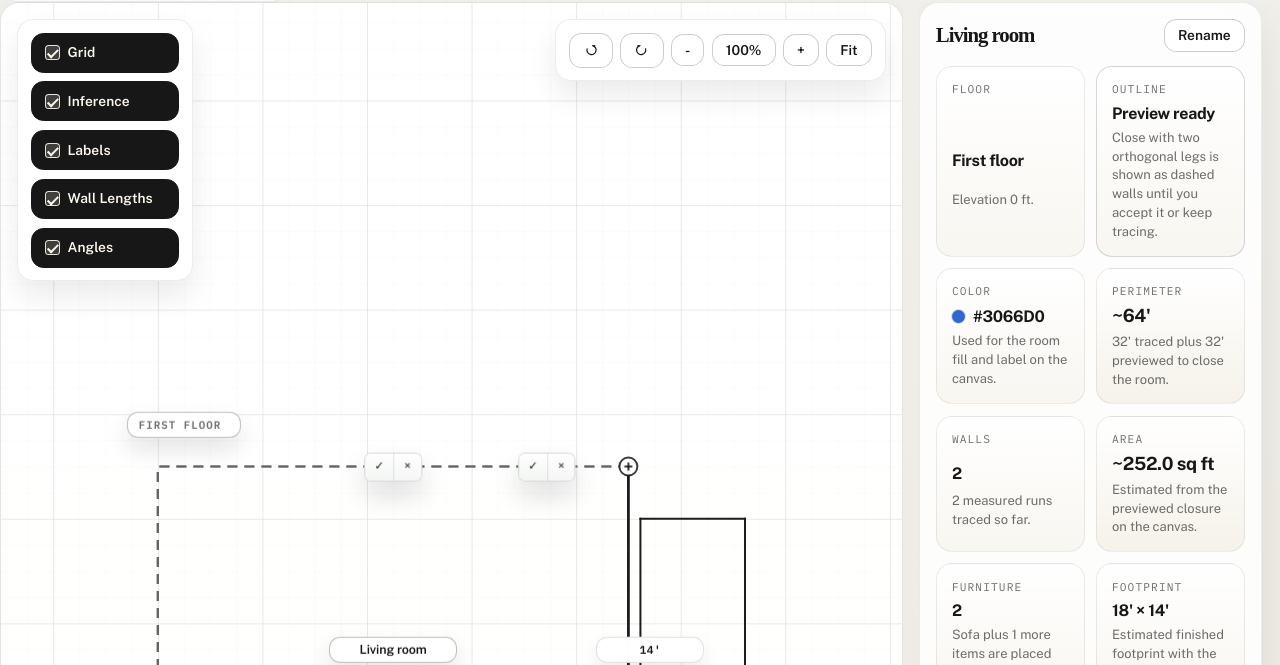
Scenario: workspace interactions › keeps dismissed inferred wall previews hidden after draft recomputes and route changes
The image size is (1280, 665).
Click the button with test id "canvas-suggestion-dismiss-" at (407, 467), box [393, 453, 421, 480]
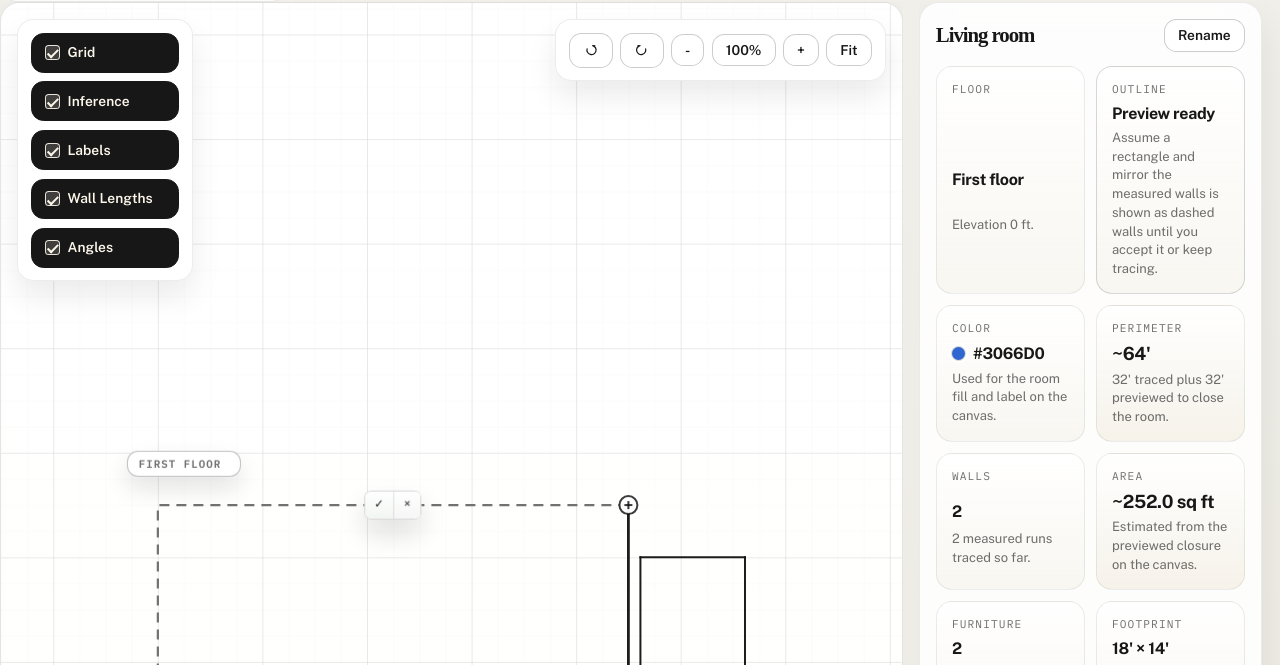
Click the checkbox labelled "Inference" at (53, 101), box [45, 94, 60, 109]
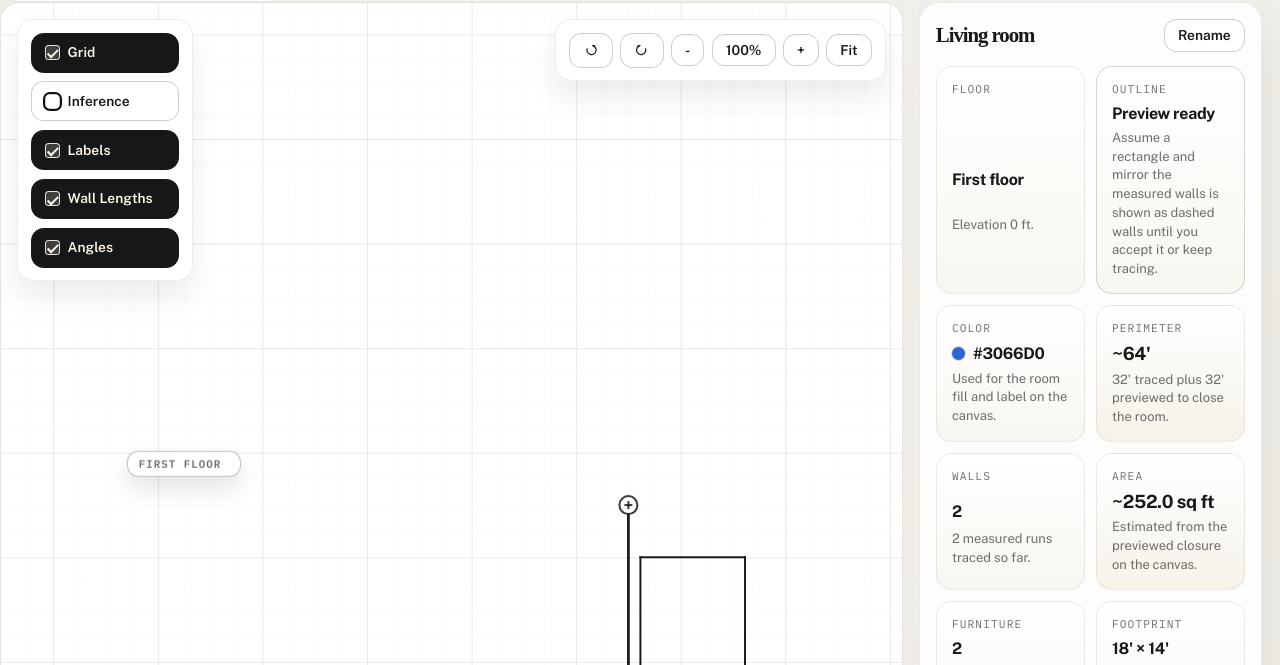
Click the checkbox labelled "Inference" at (53, 101), box [45, 94, 60, 109]
(page scrolled)
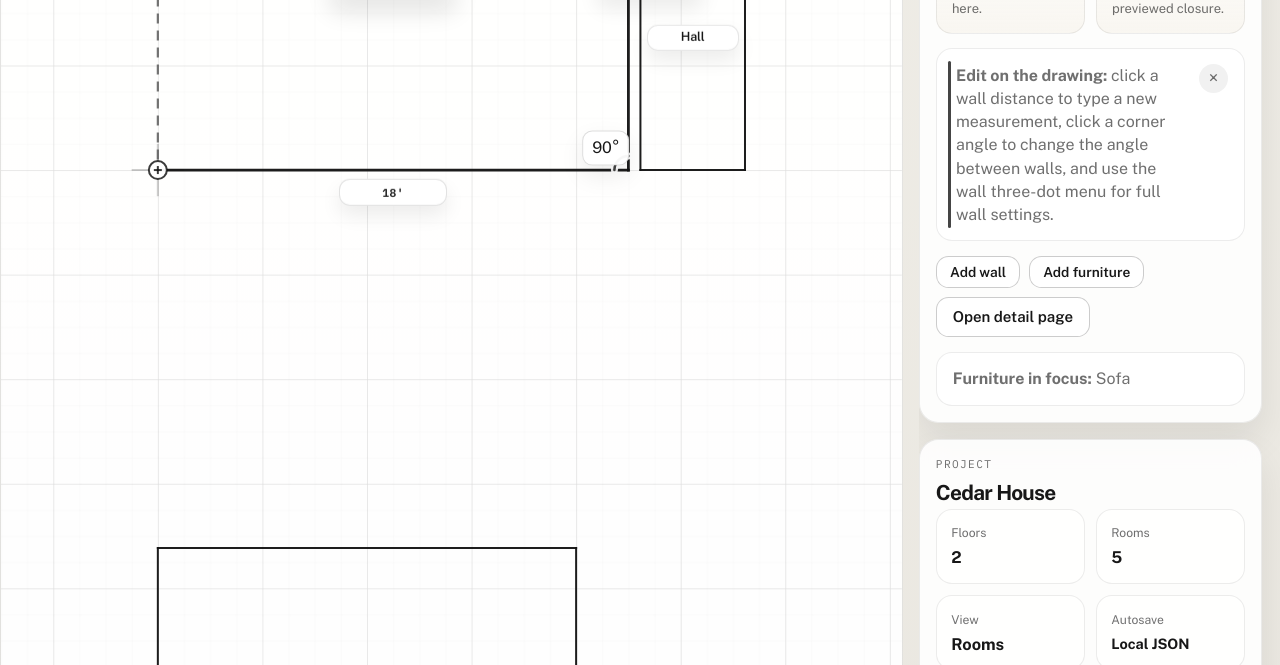
Click the link "Open detail page" at (1013, 317), box [936, 297, 1090, 338]
(page scrolled)
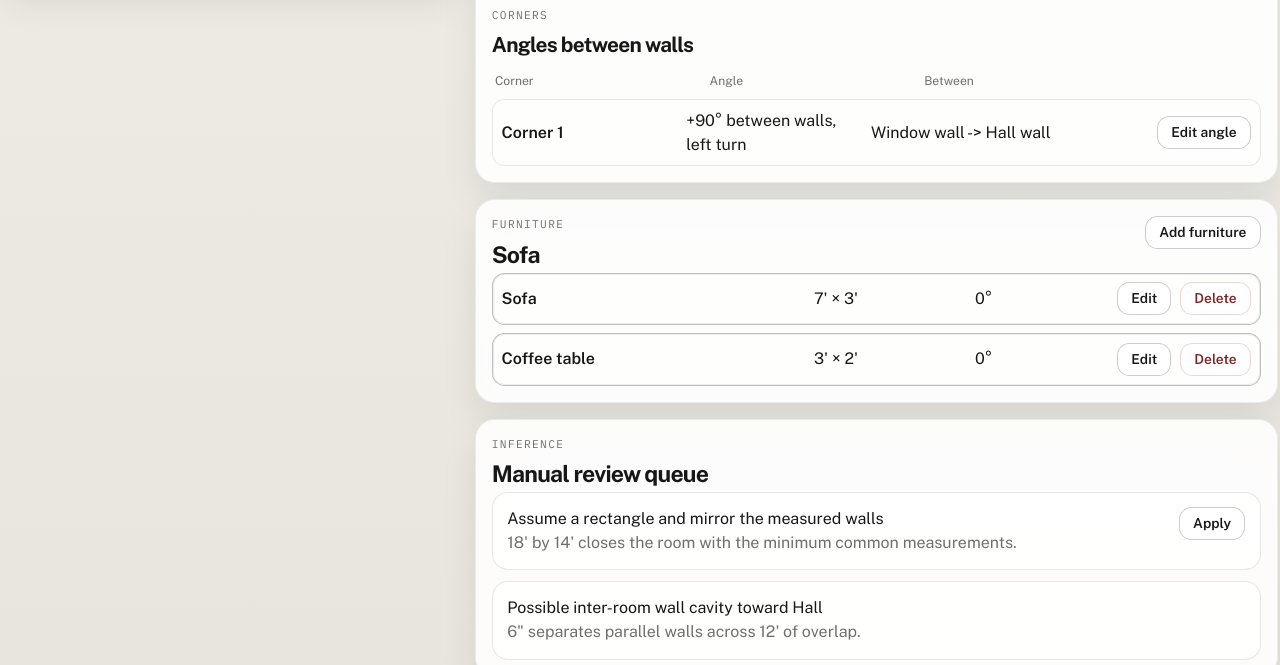
Expected: the number of buttons "Apply" is 1, [1179, 507, 1245, 540]
